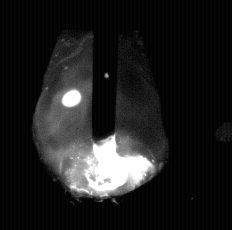arame: (93, 0, 117, 146)
poca: (33, 0, 164, 230)
